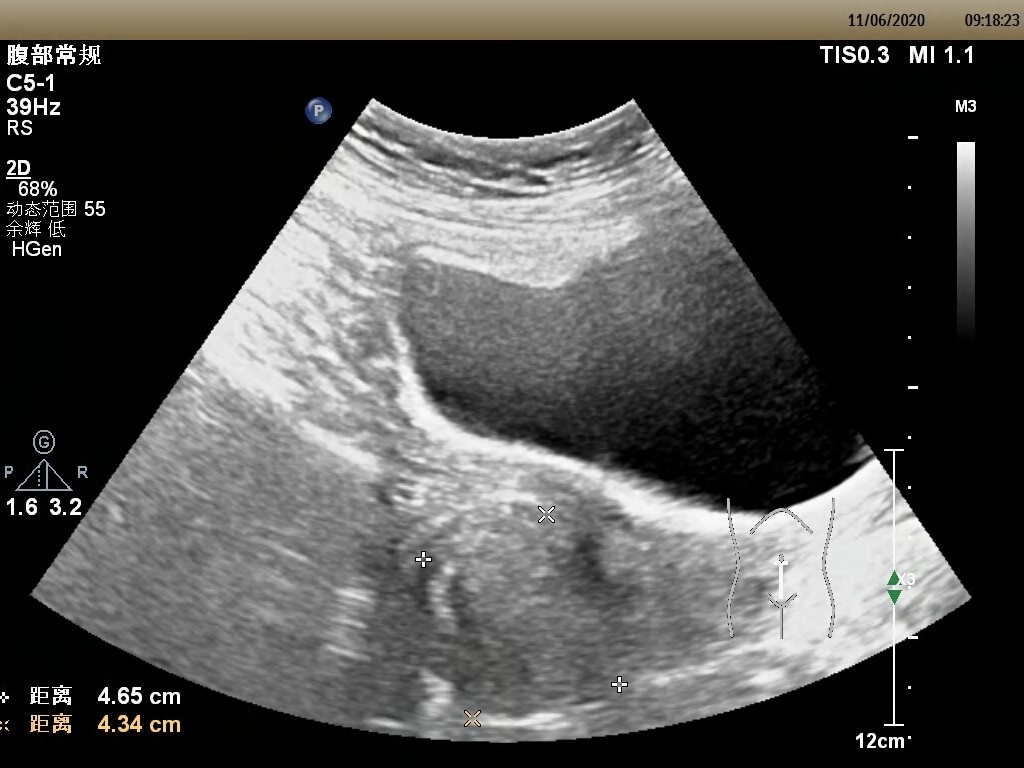肌瘤: (438, 516, 611, 700)
